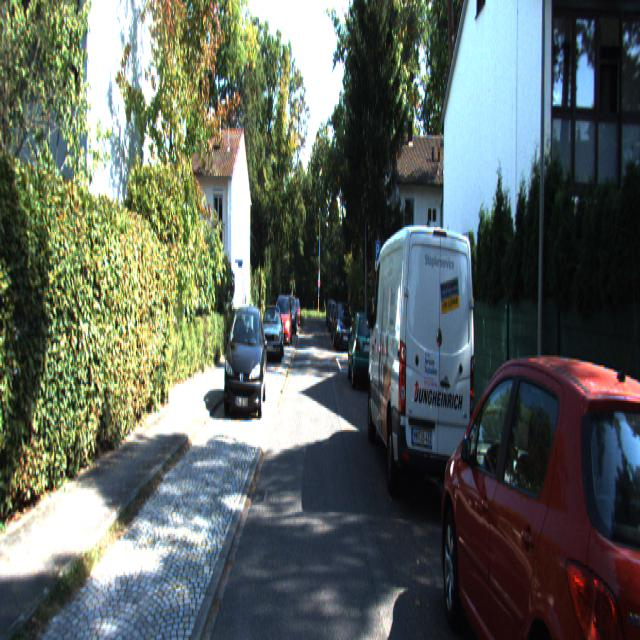Car: (436, 330, 640, 638), (366, 218, 477, 533), (223, 299, 267, 423), (348, 310, 382, 393), (259, 303, 283, 361), (334, 302, 354, 352), (274, 294, 292, 348)
